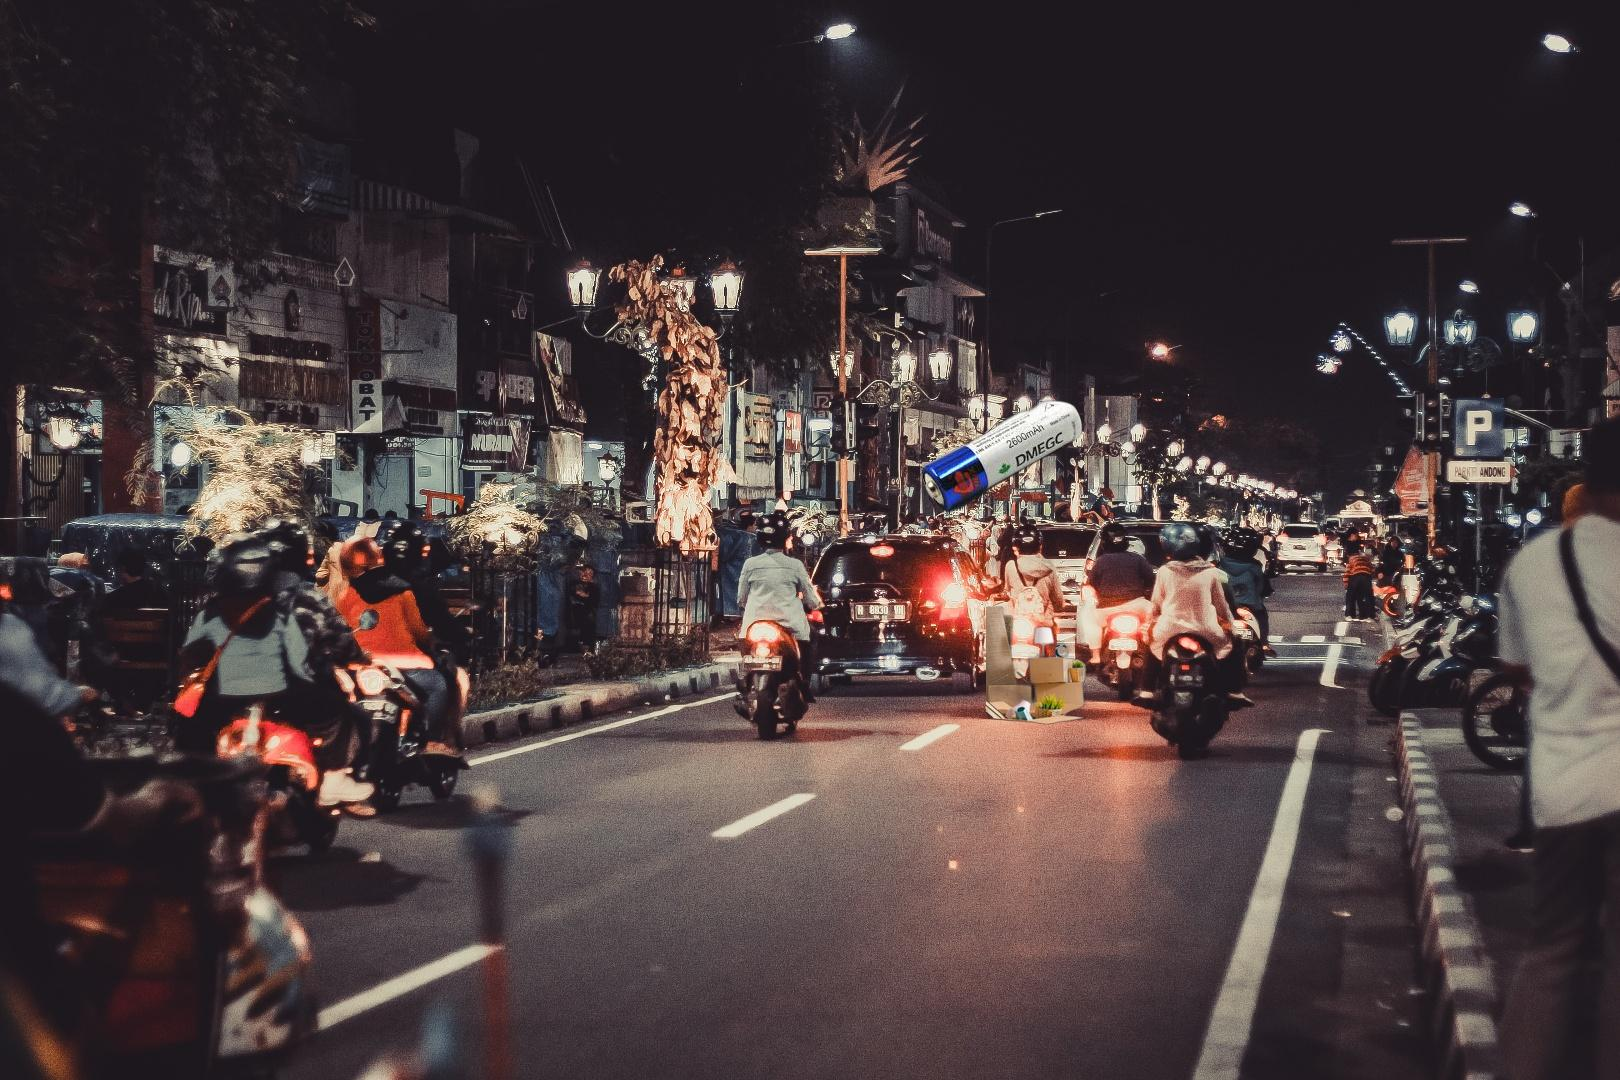battery: (918, 398, 1085, 515)
trashbox-cardboard: (986, 604, 1377, 837)
